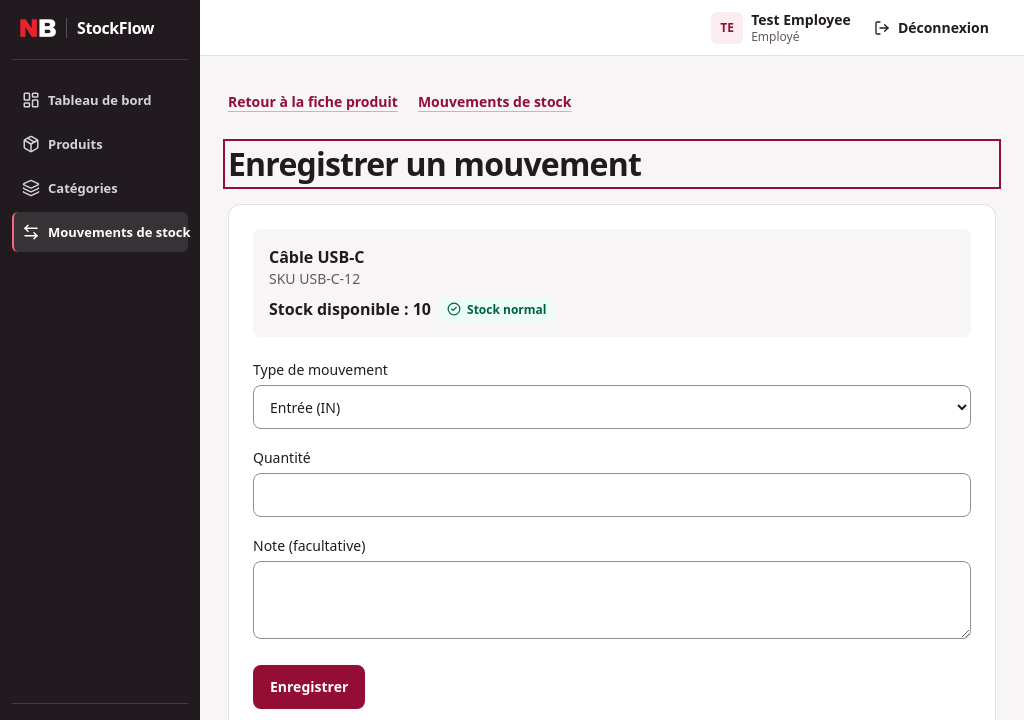
Test: submits one stock entry on a double click and displays the refreshed balance
Later steps or results of the test are not shown.
Type "3" into the field labelled "Quantité" at (612, 495), box [253, 473, 971, 517]
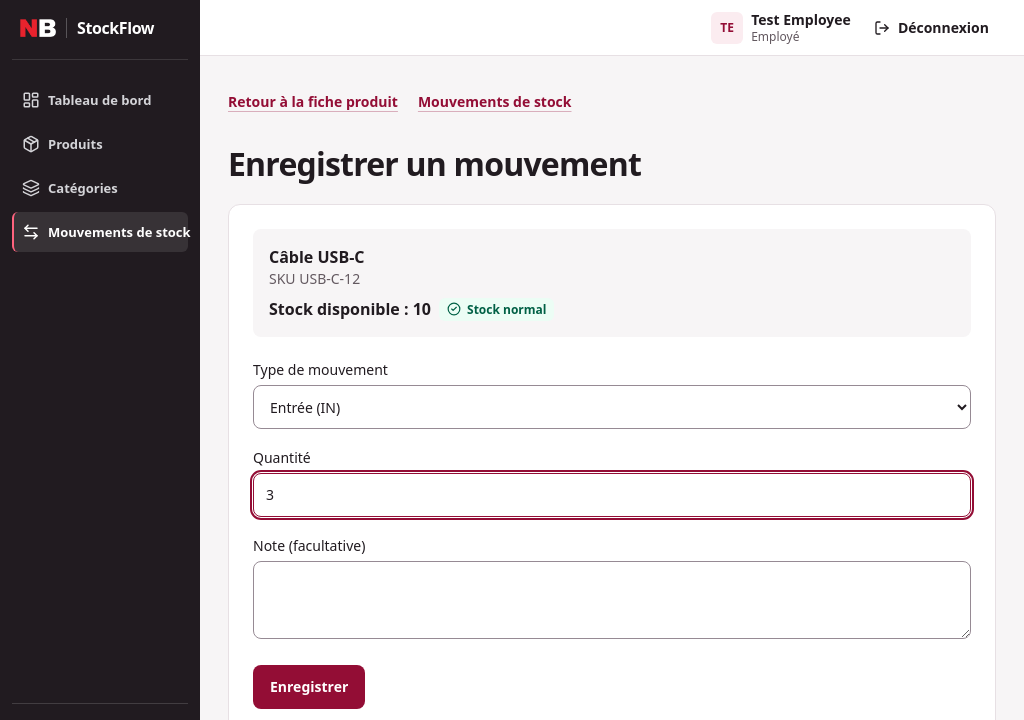
Double-click the button "Enregistrer" at (309, 687), box [253, 665, 365, 709]
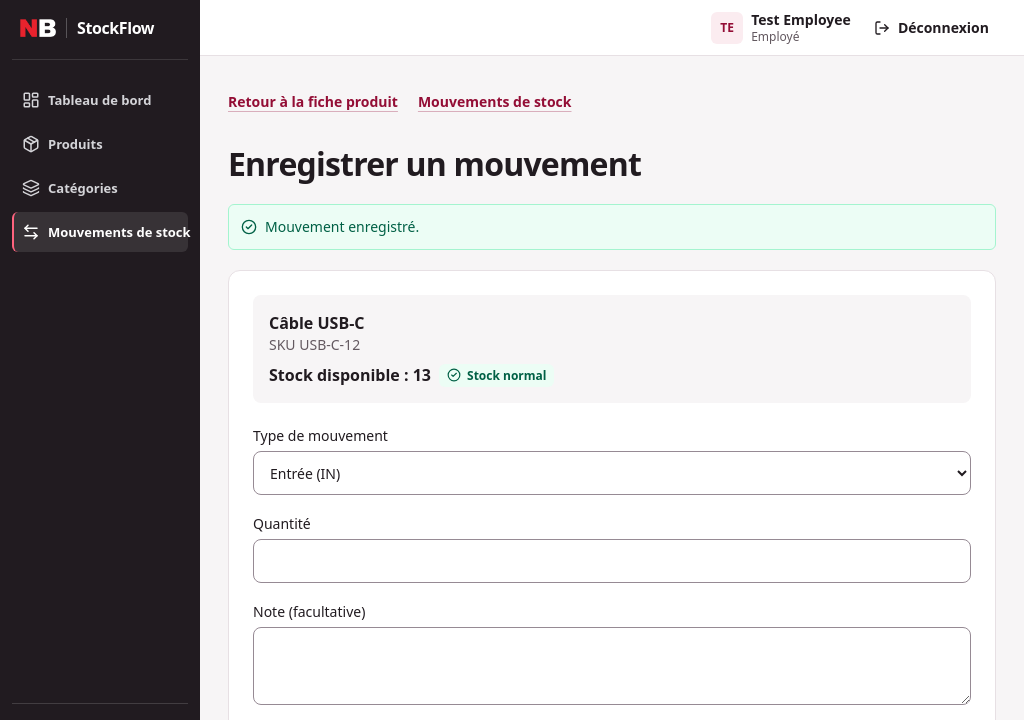
Now the text "Mouvement enregistré." is shown, box [265, 217, 419, 237]
Now the text "Stock disponible : 13" is shown, box [269, 363, 431, 387]
